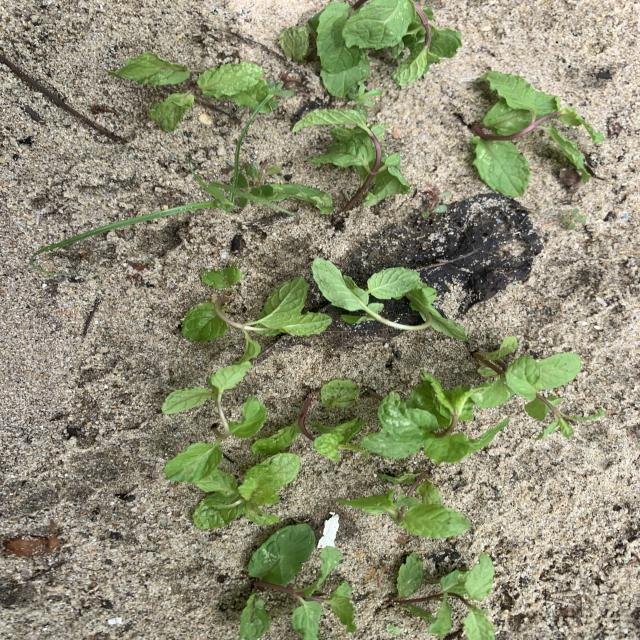crop: (166, 276, 331, 402), (280, 1, 460, 95), (471, 71, 603, 195), (109, 52, 283, 130), (241, 524, 355, 639), (293, 109, 410, 217), (314, 259, 466, 339), (360, 373, 490, 463), (390, 552, 495, 639), (253, 380, 363, 460), (338, 472, 469, 537), (193, 450, 299, 527), (471, 336, 580, 407), (526, 387, 604, 438), (270, 184, 334, 214)
weed: (32, 103, 275, 260), (347, 82, 382, 109), (422, 187, 450, 219), (561, 208, 586, 229), (386, 625, 403, 634)
